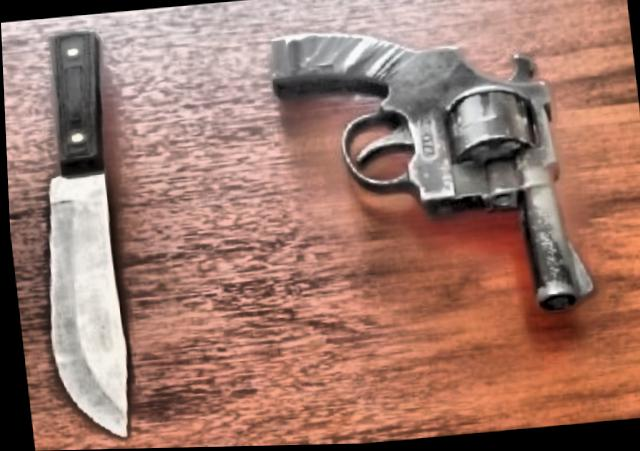knife: (19, 123, 139, 451)
